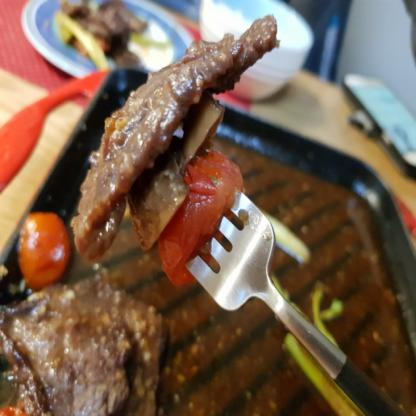Carne: (74, 19, 276, 256), (6, 286, 154, 414)
